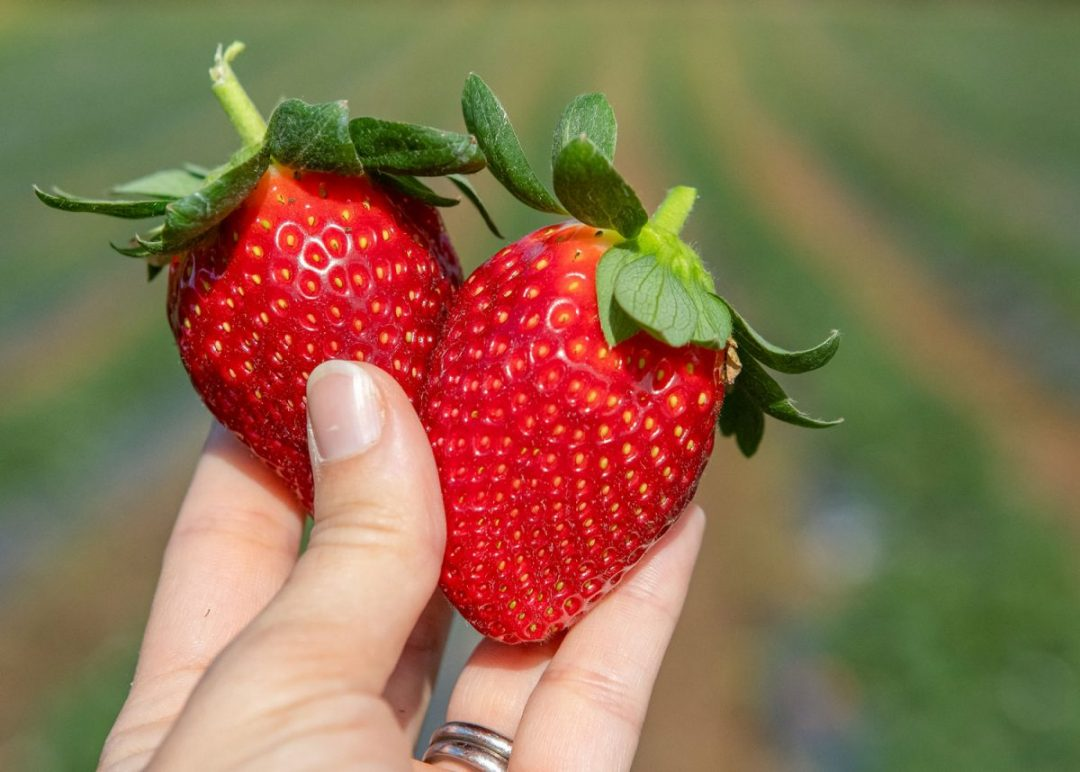ripe: (159, 137, 497, 586), (411, 228, 733, 655)
